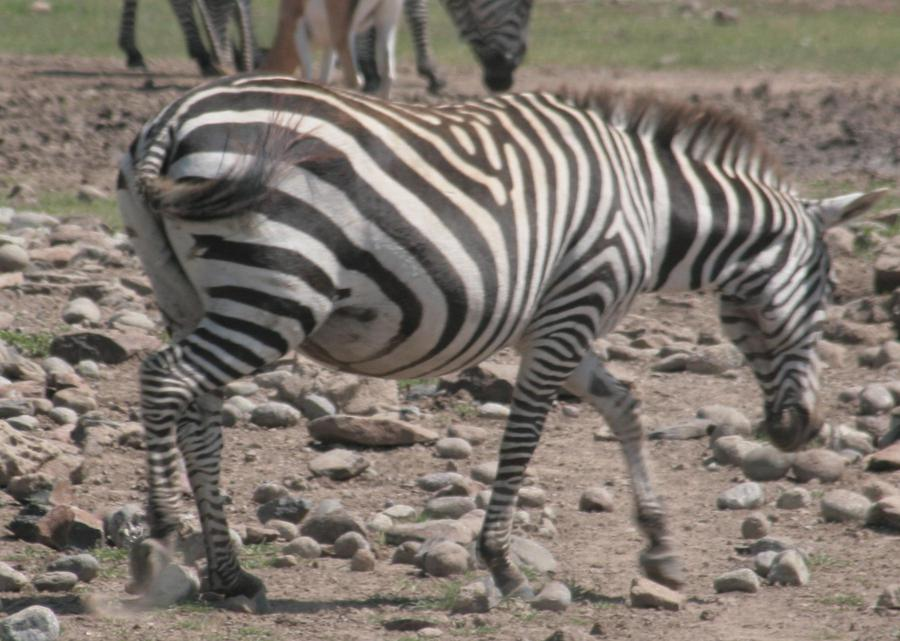zebra_plains: (168, 67, 660, 409)
